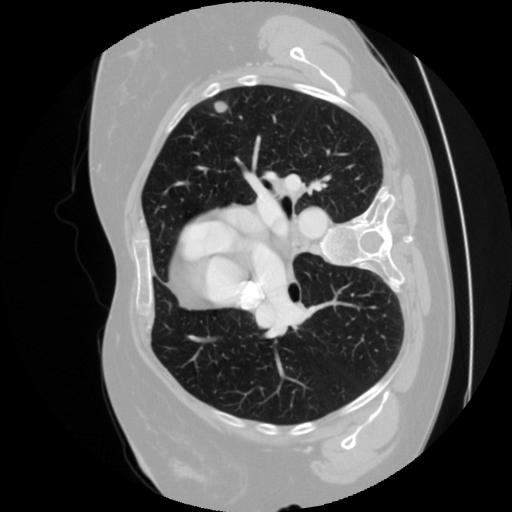nodule: (210, 98, 231, 119)
